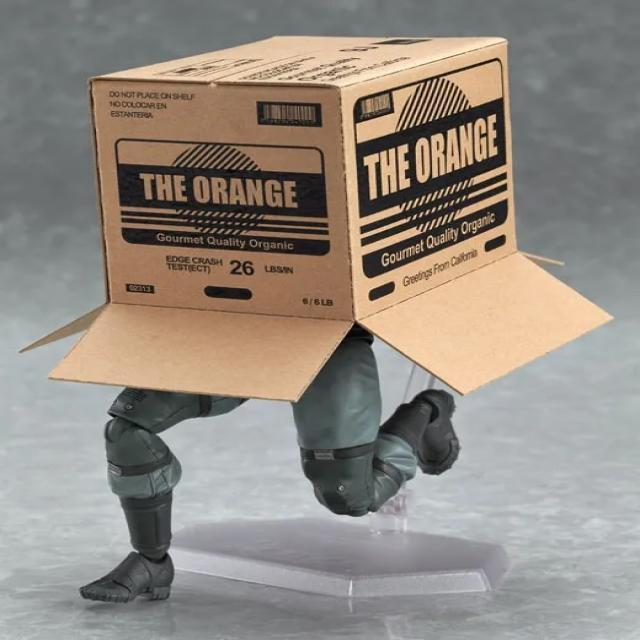snake-in-cardboard-boxes: (17, 29, 613, 408)
